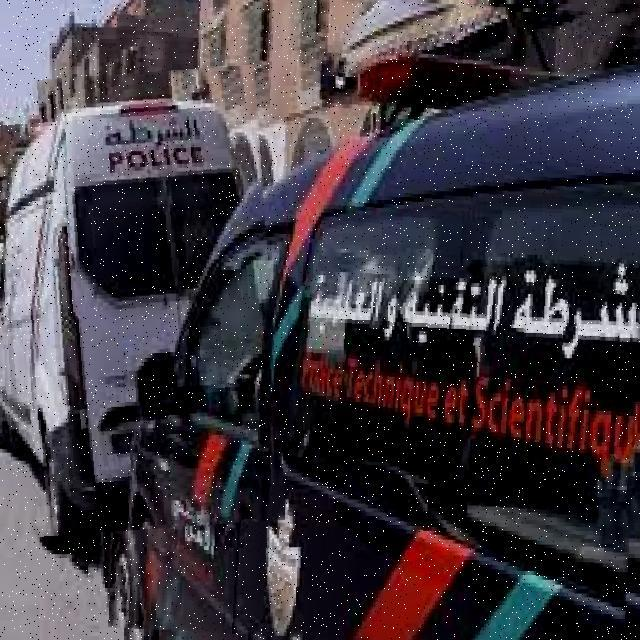police: (93, 0, 640, 640), (0, 69, 277, 534)
